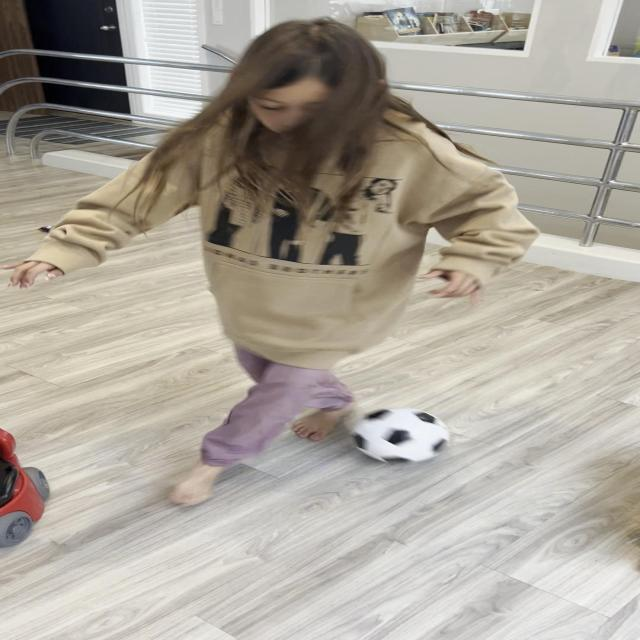Soccer Ball: (351, 407, 455, 463)
